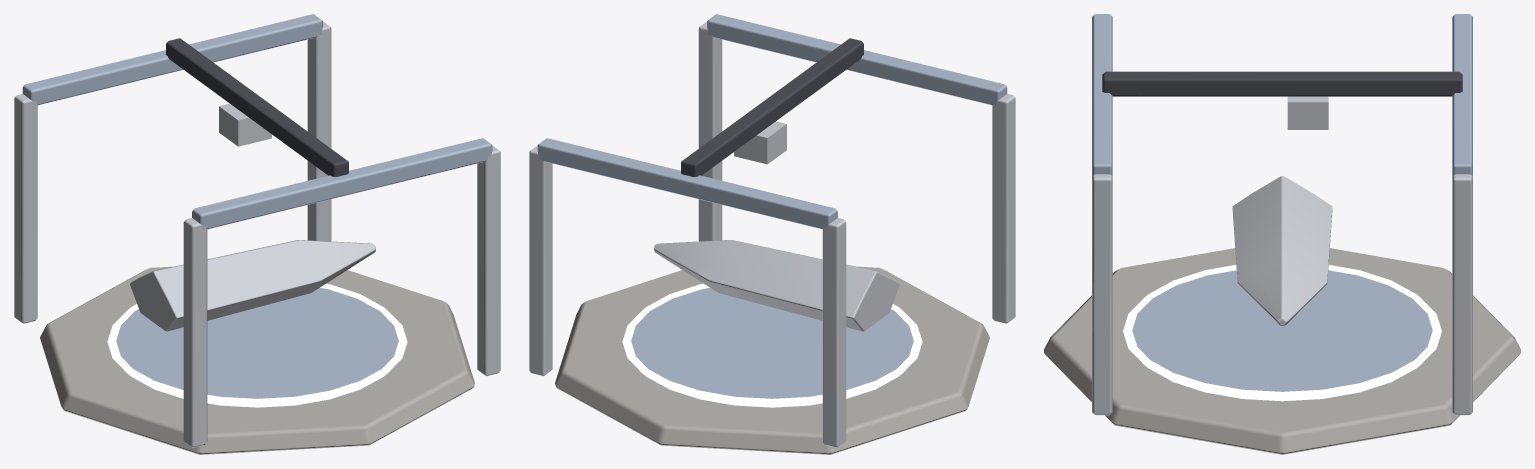
File: shipyard.glb
3 views of the same model, side by side, from view 1: azimuth 30°, elevation 25°; view 2: azimuth 150°, elevation 25°; view 3: azimuth 270°, elevation 25° (orthographic). The views are drawn at different scales.
Parts seen in each view (by area): view 1: shipyard; view 2: shipyard; view 3: shipyard.
Boxes of the visible parts, x1,y1,x2,y2 form: shipyard: (14,14,500,454); shipyard: (529,14,1015,454); shipyard: (1044,14,1520,454).
Bounding box in the file's own units: 0.9269 × 0.6 × 0.9269.
